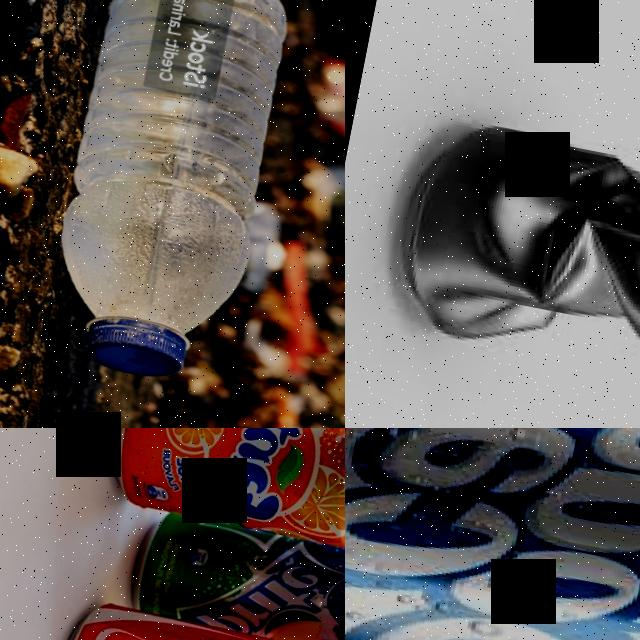bottle: (35, 0, 306, 394)
can: (100, 428, 345, 561), (126, 503, 345, 640)
